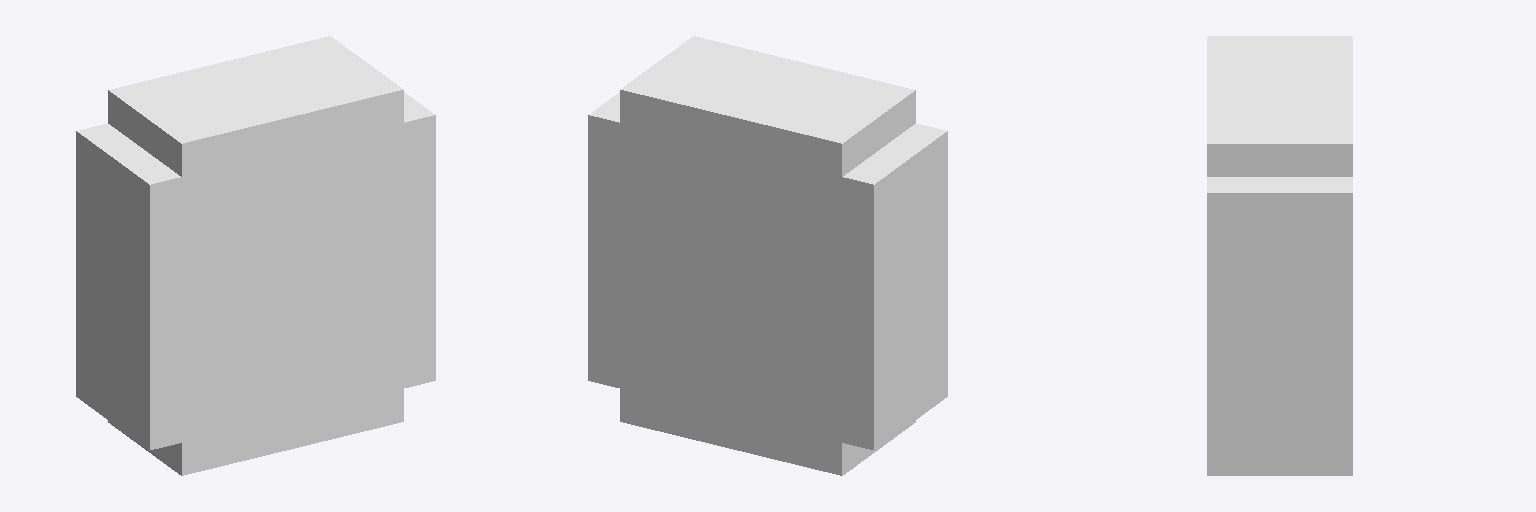
The model's file is hpbag.obj.
3 renders of one model, left to right at view 1: azimuth 30°, elevation 25°; view 2: azimuth 150°, elevation 25°; view 3: azimuth 270°, elevation 25°, orthographic.
Size of the model in its own units: 9 by 10 by 4.